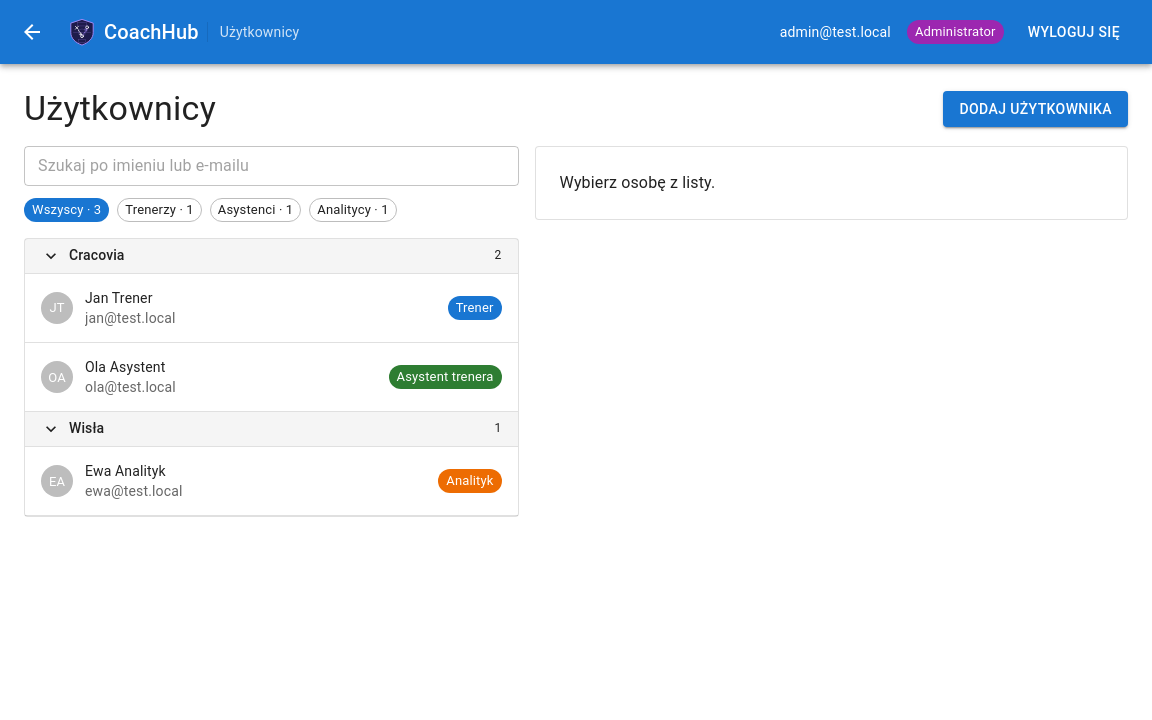
Test: editing a user (wide layout) › moves the user to the other team group after saving
What coordinates should you click on to do the following:
click the text "Ola Asystent"
I would click on:
 (125, 367)
Its box is left=85, top=359, right=166, bottom=375.
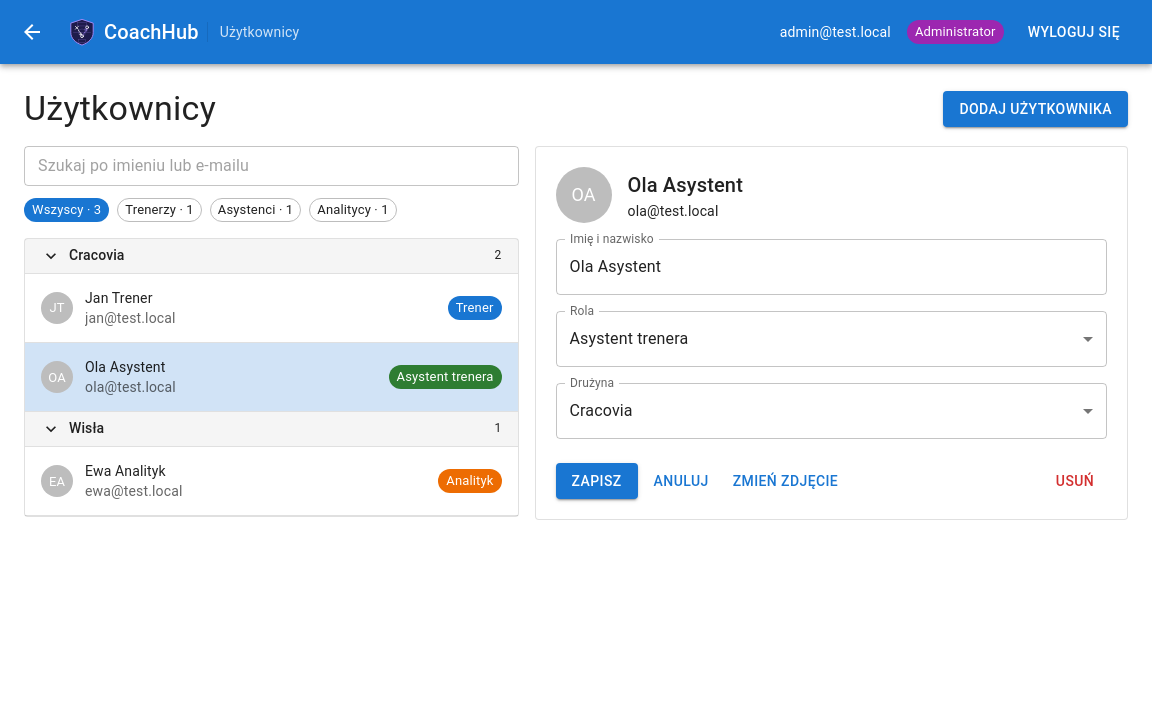
What coordinates should you click on to do the following:
click the dropdown named "Drużyna"
I would click on:
 (601, 411)
Its box is left=570, top=402, right=633, bottom=420.
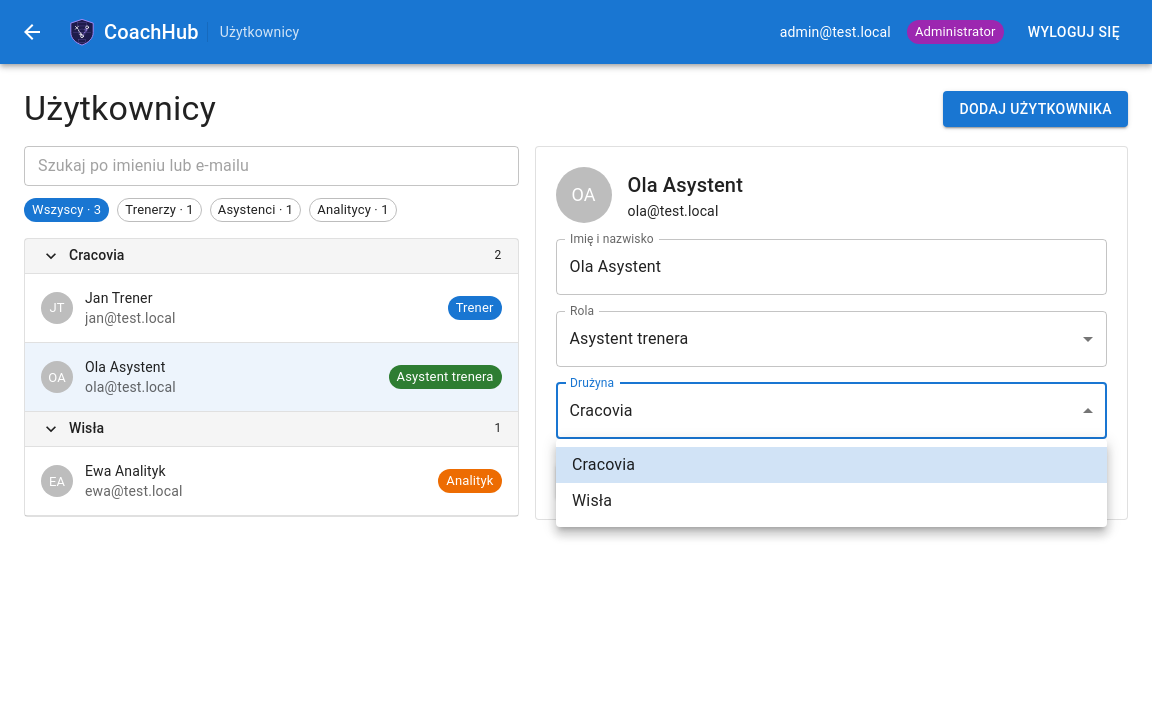
What coordinates should you click on to do the following:
click the option "Wisła"
I would click on:
 (592, 500)
Its box is left=572, top=491, right=612, bottom=510.
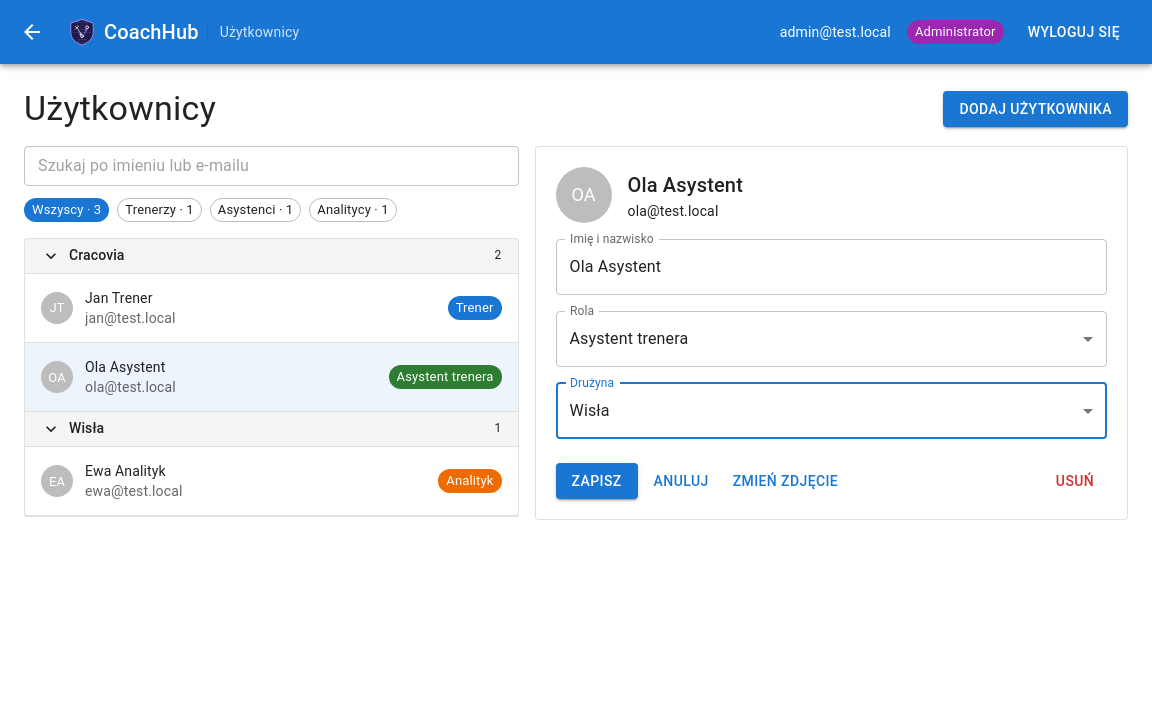
What coordinates should you click on to do the following:
click the button "Zapisz"
I would click on:
 (596, 481)
Its box is left=556, top=463, right=638, bottom=500.
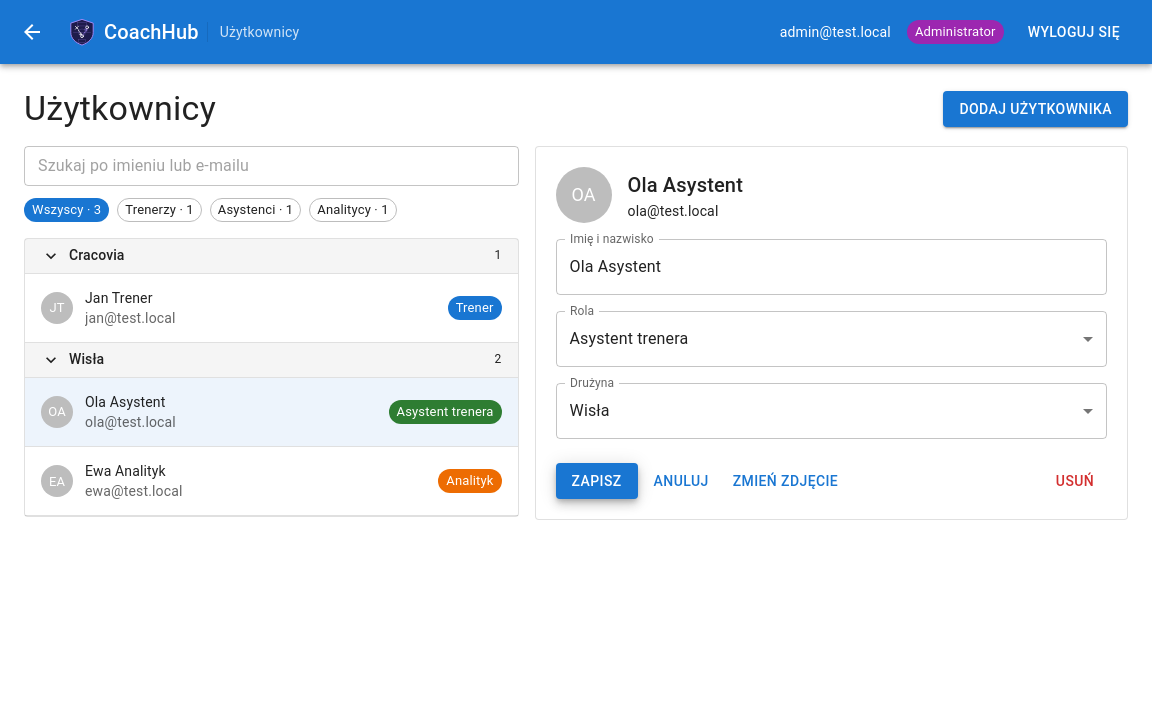
Expected: the button "Wisła 2" is shown, left=25, top=343, right=518, bottom=378
